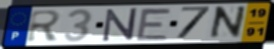3: (63, 8, 95, 44)
7: (177, 5, 214, 42)
E: (134, 7, 174, 42)
N: (206, 4, 248, 41), (101, 7, 139, 43)
R: (25, 9, 63, 43)
